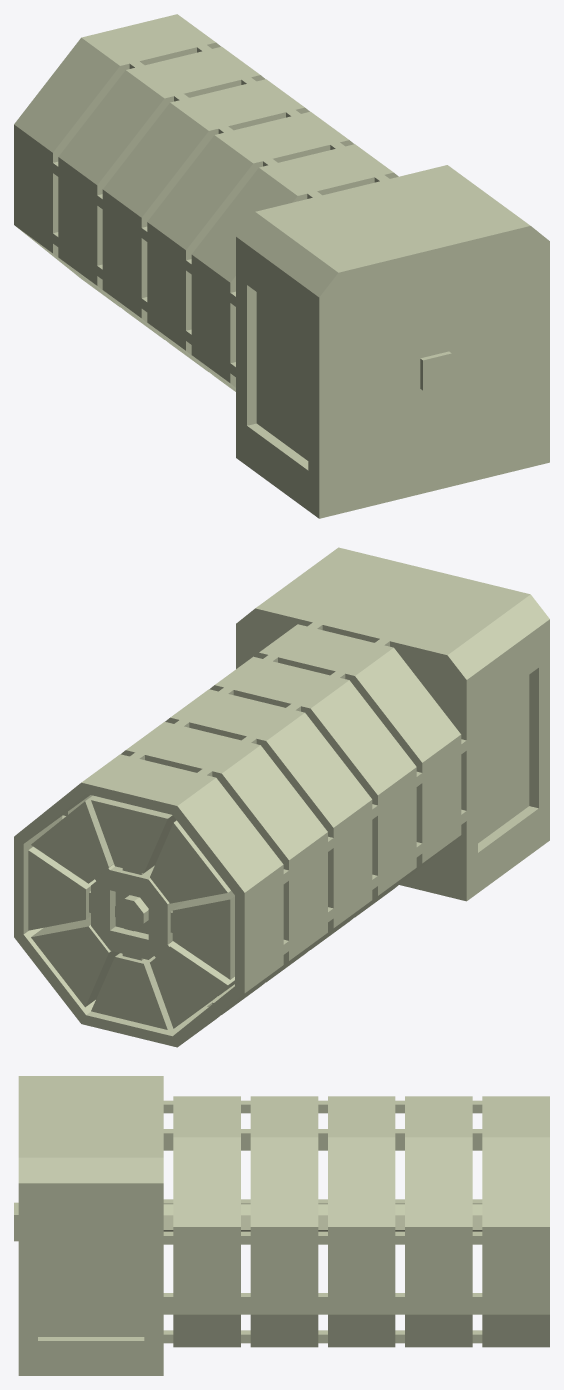
File: fel.obj
3 renders of one model, top to bottom at view 1: azimuth 30°, elevation 25°; view 2: azimuth 150°, elevation 25°; view 3: azimuth 270°, elevation 25°, orthographic. The views are drawn at different scales.
Visible parts, largest first — view 1: Cube_Cube.001; view 2: Cube_Cube.001; view 3: Cube_Cube.001.
Boxes of the visible parts, left/top/right/bottom form: Cube_Cube.001: left=14, top=14, right=549, bottom=518; Cube_Cube.001: left=14, top=547, right=549, bottom=1047; Cube_Cube.001: left=14, top=1076, right=549, bottom=1375.
Size of the model in its own units: 3 by 3 by 6.94.
